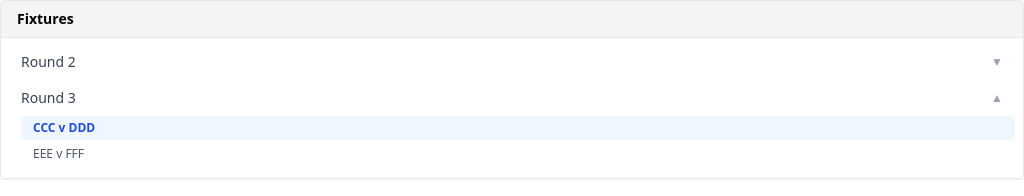
Scenario: ResultsSidebar › collapses an expanded round on click
Click the text "Round 3" at (48, 98), box [21,88,76,108]
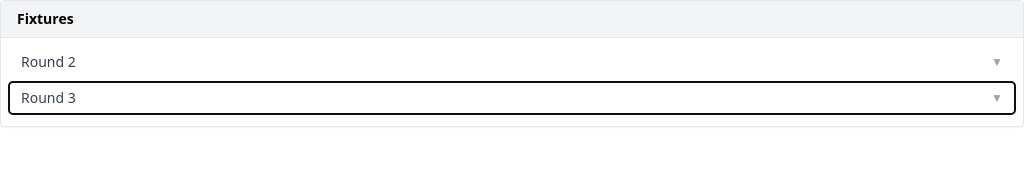
Now the link "CCC v DDD" is gone
